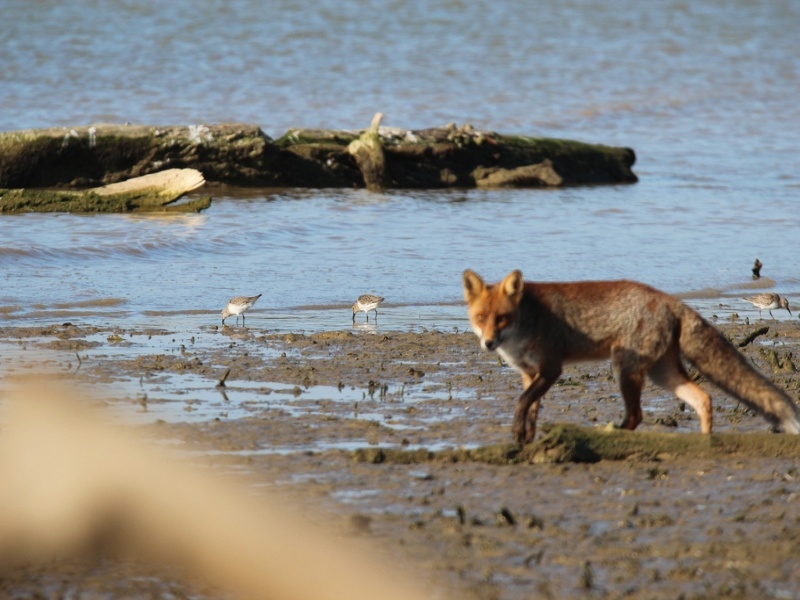fox: (457, 269, 800, 453)
